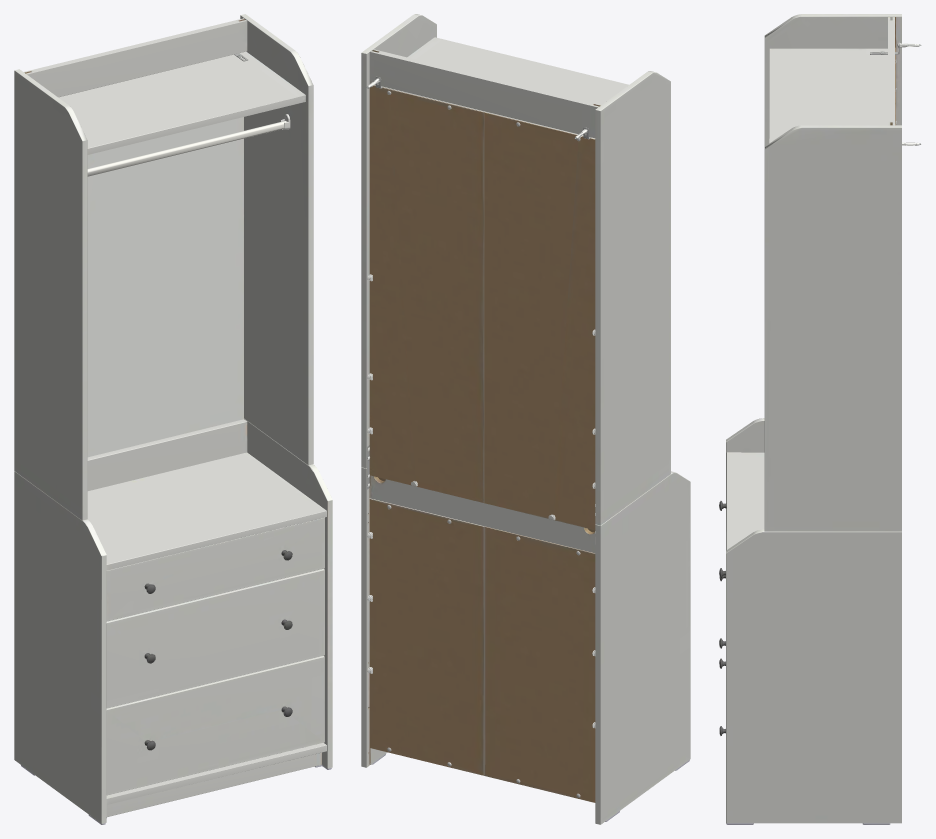
Rendered from 22 - HAUGA - 開放式衣櫃附3抽屜, 白色, 70x199 公分 IKEA 線上購物.glb.
3 renders of one model, left to right at view 1: azimuth 30°, elevation 25°; view 2: azimuth 150°, elevation 25°; view 3: azimuth 270°, elevation 25°, orthographic. The views are drawn at different scales.
Parts seen in each view (by area): view 1: Mesh_0; view 2: Mesh_0; view 3: Mesh_0.
Part boxes in pixels (box(x1,y1,x2,y2)): Mesh_0: box(14, 14, 332, 824); Mesh_0: box(361, 14, 690, 824); Mesh_0: box(719, 14, 921, 824).
Bounding box in the file's own units: 0.6961 × 1.99 × 0.5241.
1 material, 1 textured.
